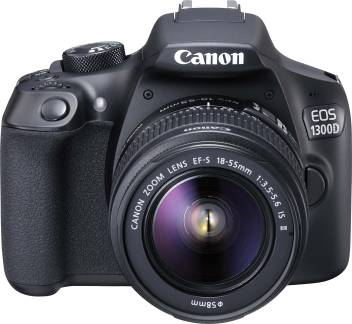kamera: (1, 1, 352, 324)
